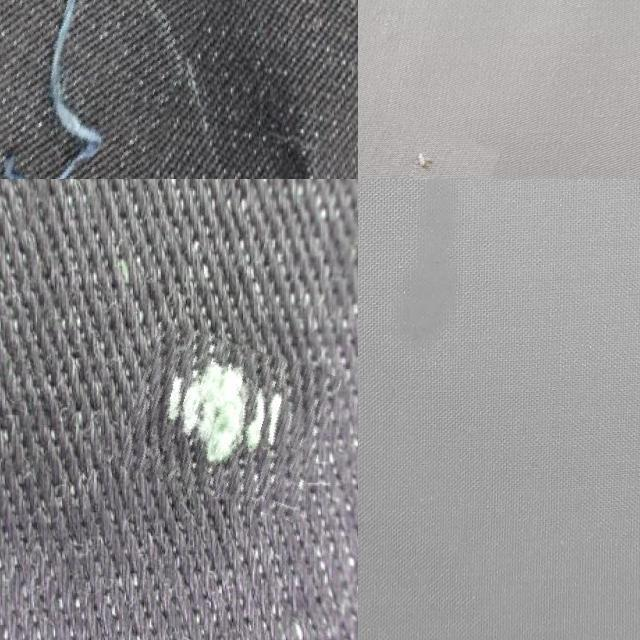Thread_other: (124, 332, 332, 510), (358, 93, 480, 179)
